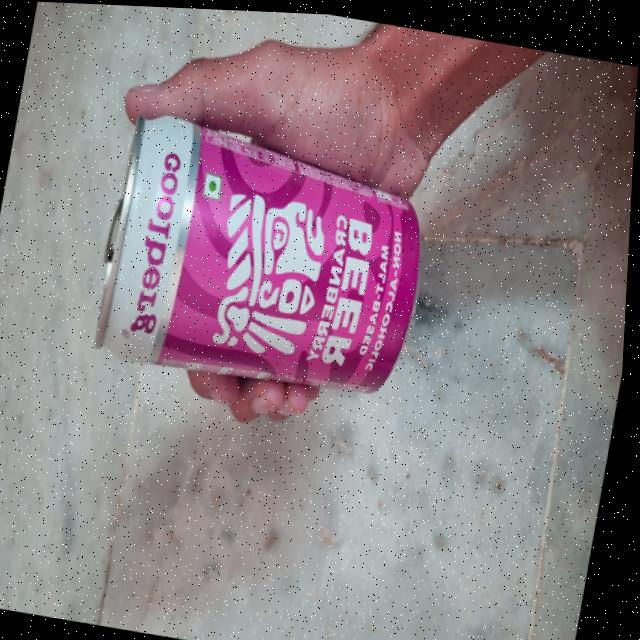Coolberg: (92, 92, 445, 410)
